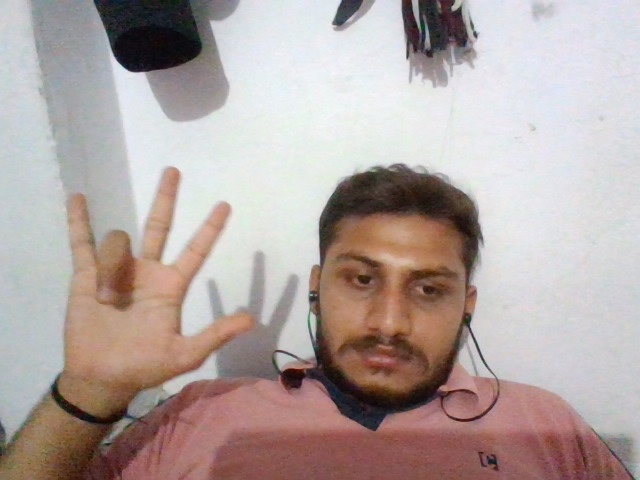ILoveYou: (59, 151, 259, 390)
